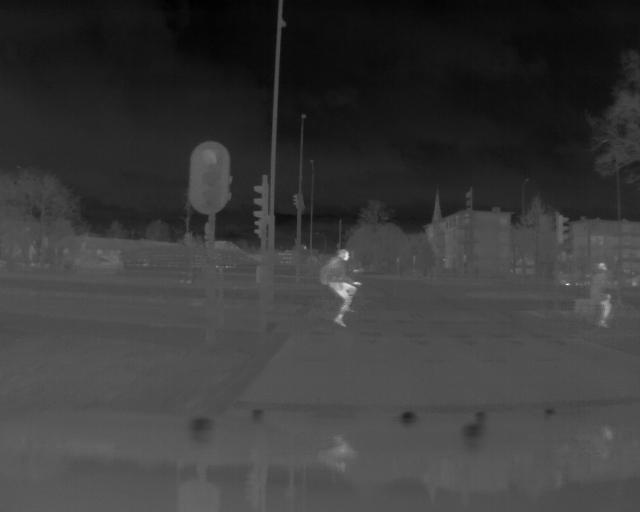person: (319, 246, 363, 329), (592, 260, 616, 330)
